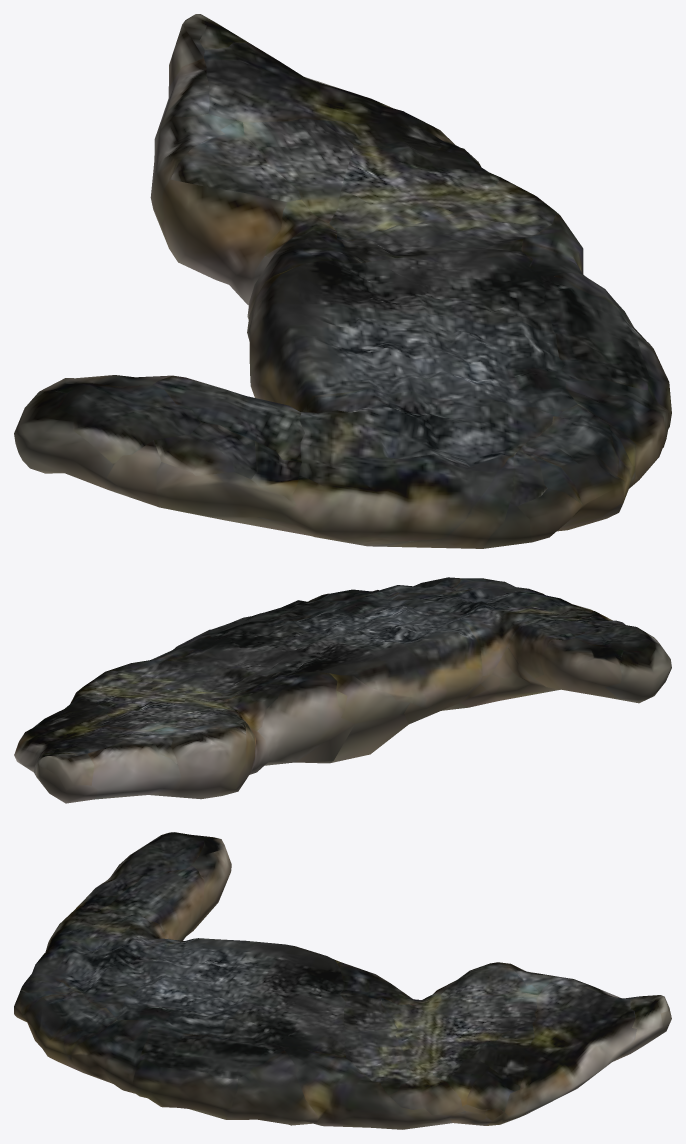
Rendered from hall.glb.
3 views of the same model, one above another, from view 1: azimuth 30°, elevation 25°; view 2: azimuth 150°, elevation 25°; view 3: azimuth 270°, elevation 25° (orthographic). The views are drawn at different scales.
Size of the model in its own units: 0.5679 by 0.1589 by 0.7273.
Materials: 1 (1 with a texture image).
